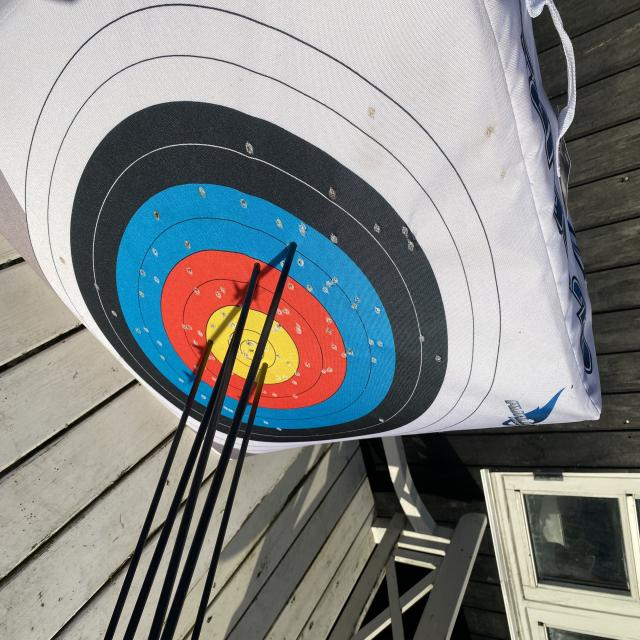Arrow_Blue: (281, 232, 315, 268)
Arrow_Red: (248, 253, 268, 287), (202, 329, 222, 363)
Arrow_Yellow: (254, 352, 274, 391), (230, 322, 246, 346)
